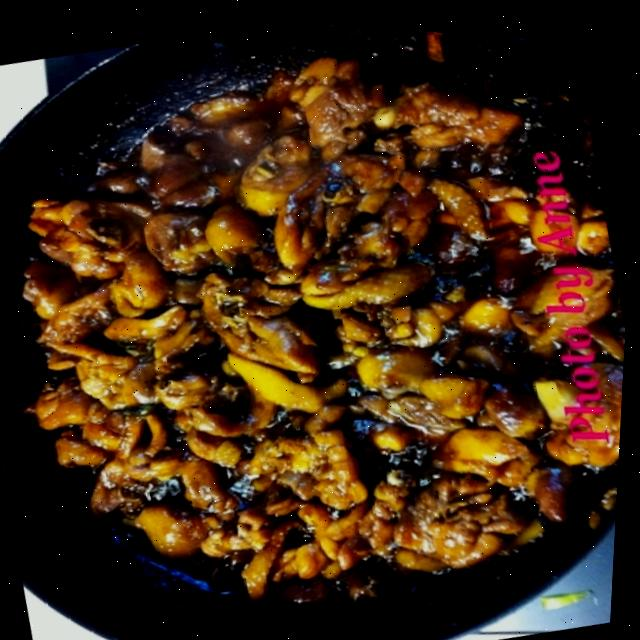鸡肉料理 含炸鸡: (0, 25, 639, 633)
